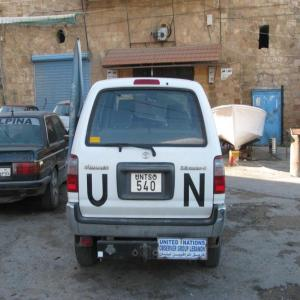Vehicle-registration-plate: (116, 157, 176, 226), (1, 165, 12, 181)
